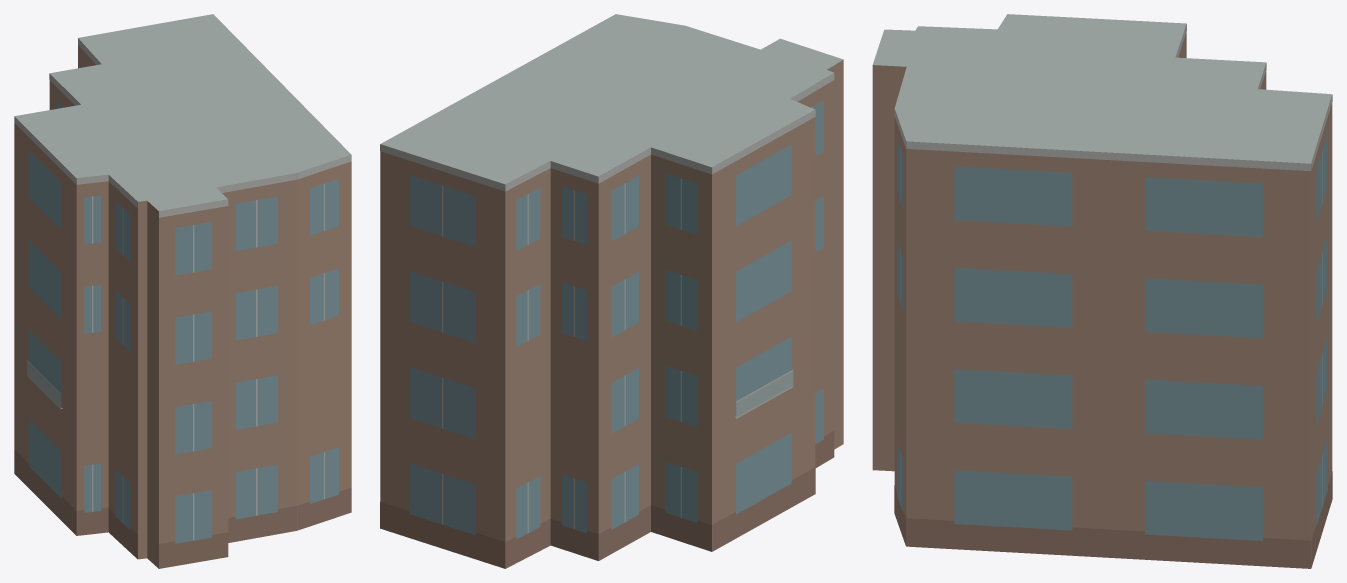
Rendered from survey-upis-32976072.glb.
The picture shows the model from 3 angles, left to right: view 1: azimuth 30°, elevation 25°; view 2: azimuth 150°, elevation 25°; view 3: azimuth 270°, elevation 25°; orthographic projection. The views are drawn at different scales.
Visible parts, largest first — view 1: survey-upis-32976072.tmp; view 2: survey-upis-32976072.tmp; view 3: survey-upis-32976072.tmp.
Part boxes in pixels (x1,y1,x2,y2): survey-upis-32976072.tmp: (14,14,351,568); survey-upis-32976072.tmp: (380,14,843,568); survey-upis-32976072.tmp: (872,14,1332,568).
Bounding box in the file's own units: 10.46 × 13.19 × 13.58.
